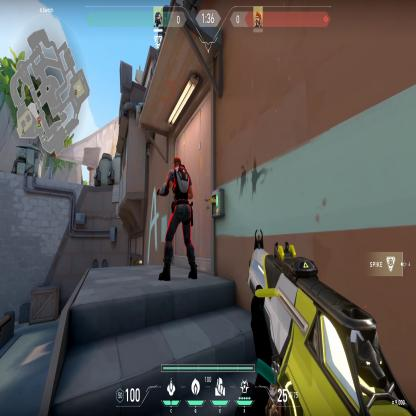enemy: (154, 155, 199, 282)
